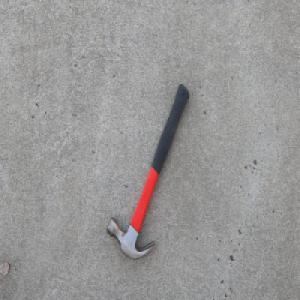Hammer: (106, 82, 190, 263)
